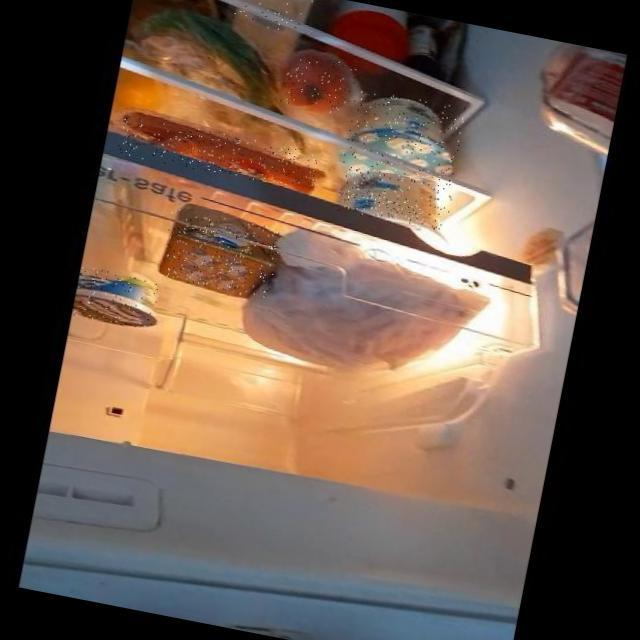Mantequilla: (157, 207, 283, 301)
Yogur: (341, 87, 466, 183), (336, 163, 455, 231), (72, 265, 160, 330)
Zanahoria: (117, 114, 319, 191)
green chilies: (133, 6, 275, 89)
milk: (229, 0, 317, 36)
tomato paste: (276, 50, 359, 115)
